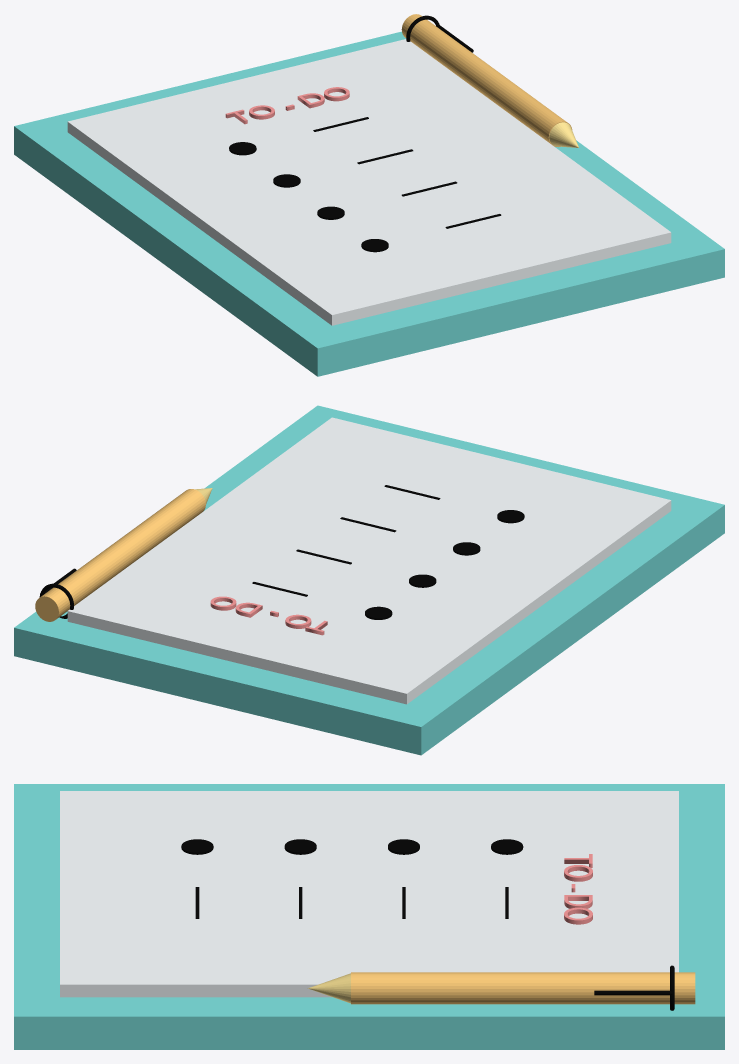
Rendered from todo1.glb.
The picture shows the model from 3 angles, top to bottom: view 1: azimuth 30°, elevation 25°; view 2: azimuth 150°, elevation 25°; view 3: azimuth 270°, elevation 25°; orthographic projection. The views are drawn at different scales.
Visible parts, largest first — view 1: Cube.001, Cube, Cylinder, Text; view 2: Cube.001, Cube, Cylinder, Text; view 3: Cube.001, Cube, Cylinder, Text, Cone, Cylinder.001.
Boxes of the visible parts, x1,y1,x2,y2 form: Cube.001: (67,39,671,325); Cube: (14,31,724,376); Cylinder: (401,14,572,147); Text: (225,87,349,124); Cube.001: (67,417,671,704); Cube: (14,405,724,755); Cylinder: (35,489,205,621); Text: (210,596,327,635); Cube.001: (60,791,678,997); Cube: (14,784,724,1049); Cylinder: (351,972,695,1004); Text: (564,854,592,924); Cone: (308,973,350,1003); Cylinder.001: (594,990,672,995).
Size of the model in its own units: 2.4 by 0.34 by 3.1.
